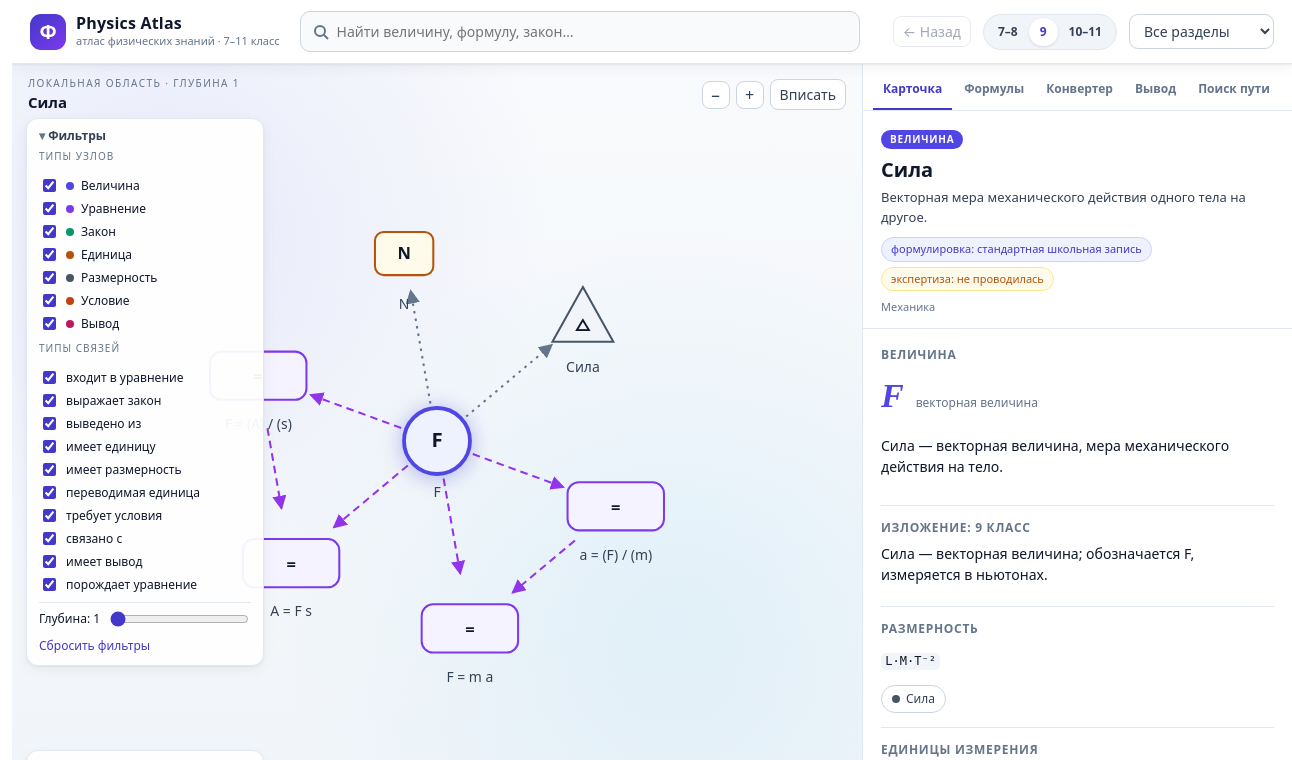
Test: atlas application › keeps the Find Path draft when switching tabs
Click the tab "Поиск пути".
click(1234, 91)  # box [1188,72,1280,110]
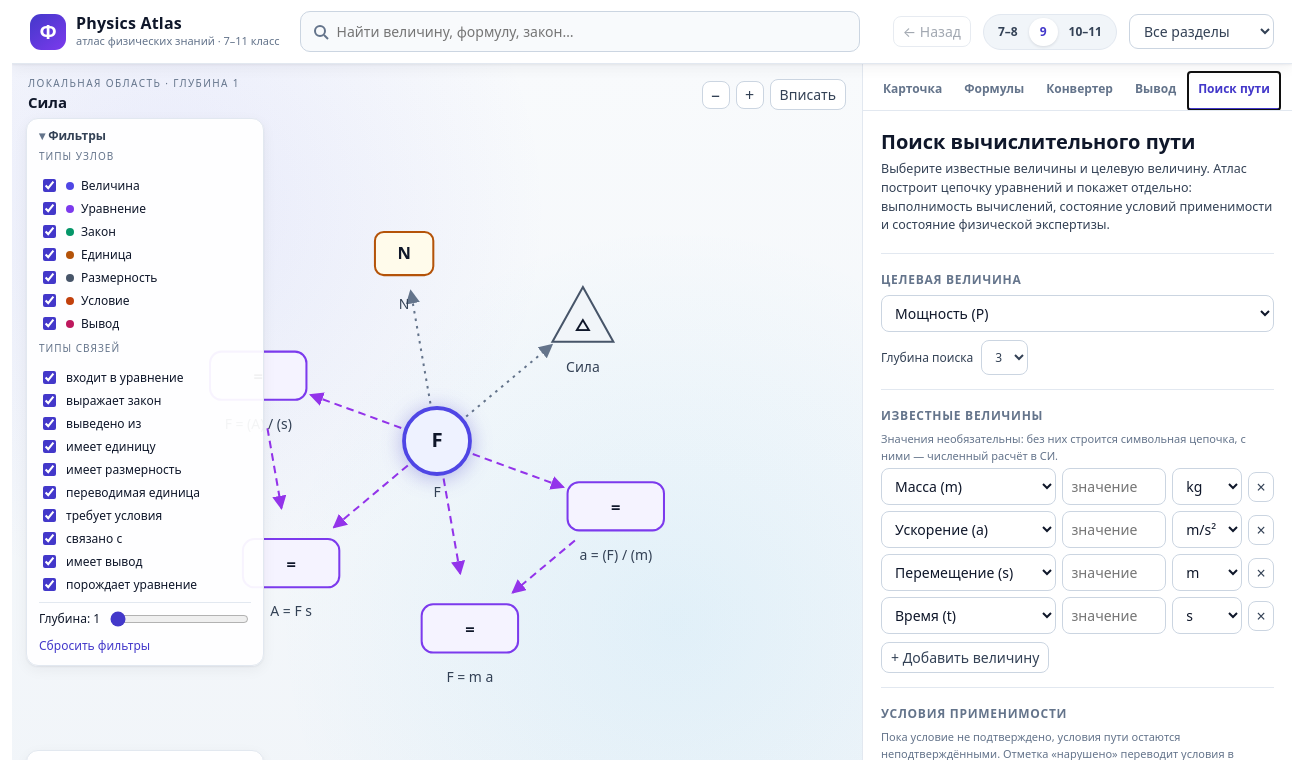
Type "2" into the field named "Значение 1".
click(1114, 486); type("2")  # box [1062,468,1166,505]
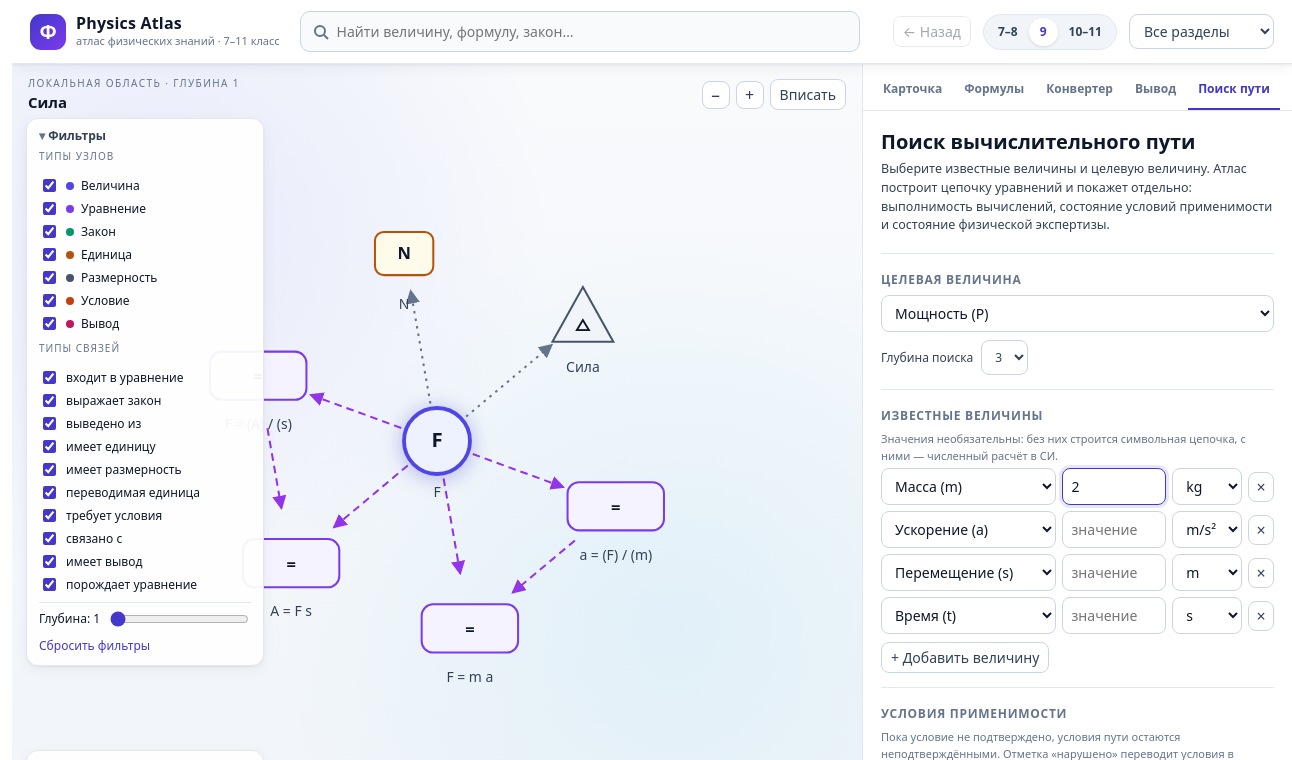
Click the tab "Карточка".
click(913, 91)  # box [873,72,952,110]
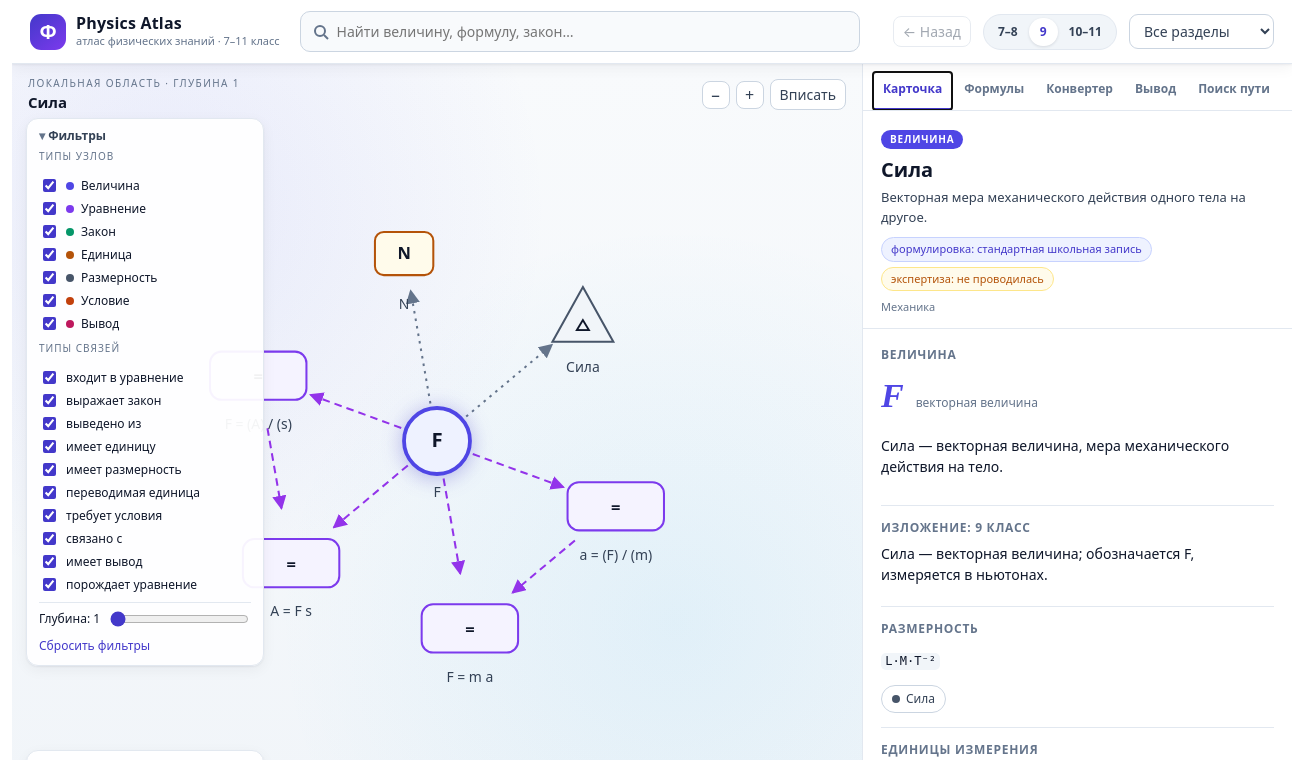
Click the tab "Поиск пути".
click(1234, 91)  # box [1188,72,1280,110]
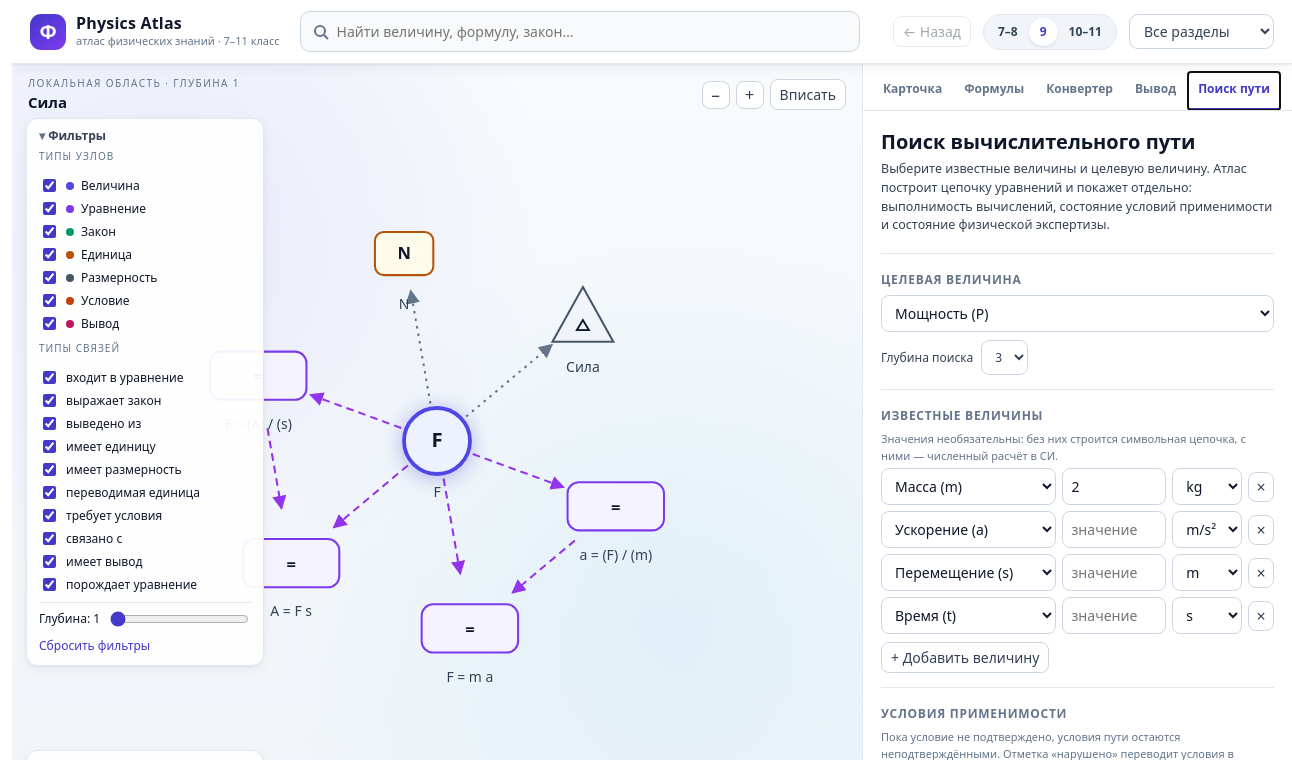
Result: the field named "Значение 1" holds "2" at [1062,468,1166,505]
